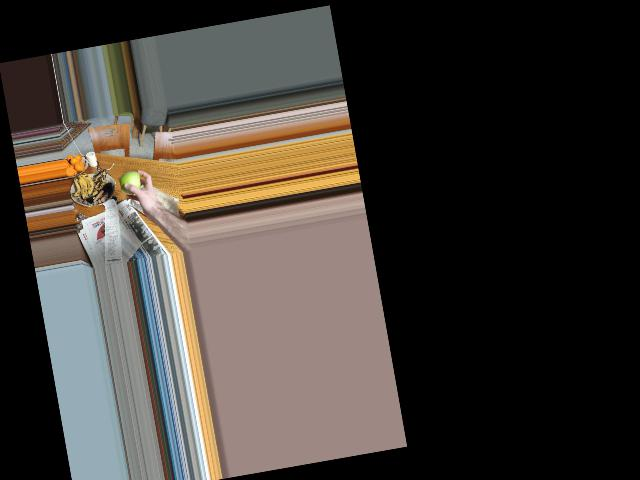apple: (117, 170, 142, 197)
